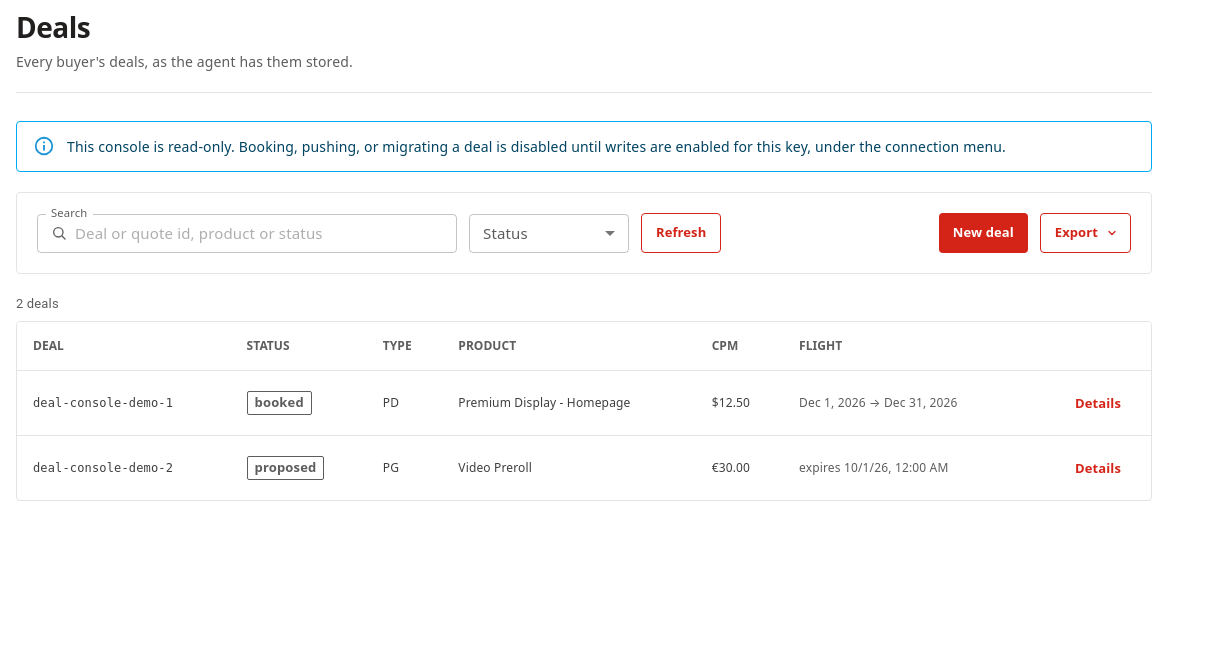
the deals screen › says so when the export fails, instead of downloading an empty file
Click the button "Export" at (1085,233), box [1040, 213, 1131, 253]
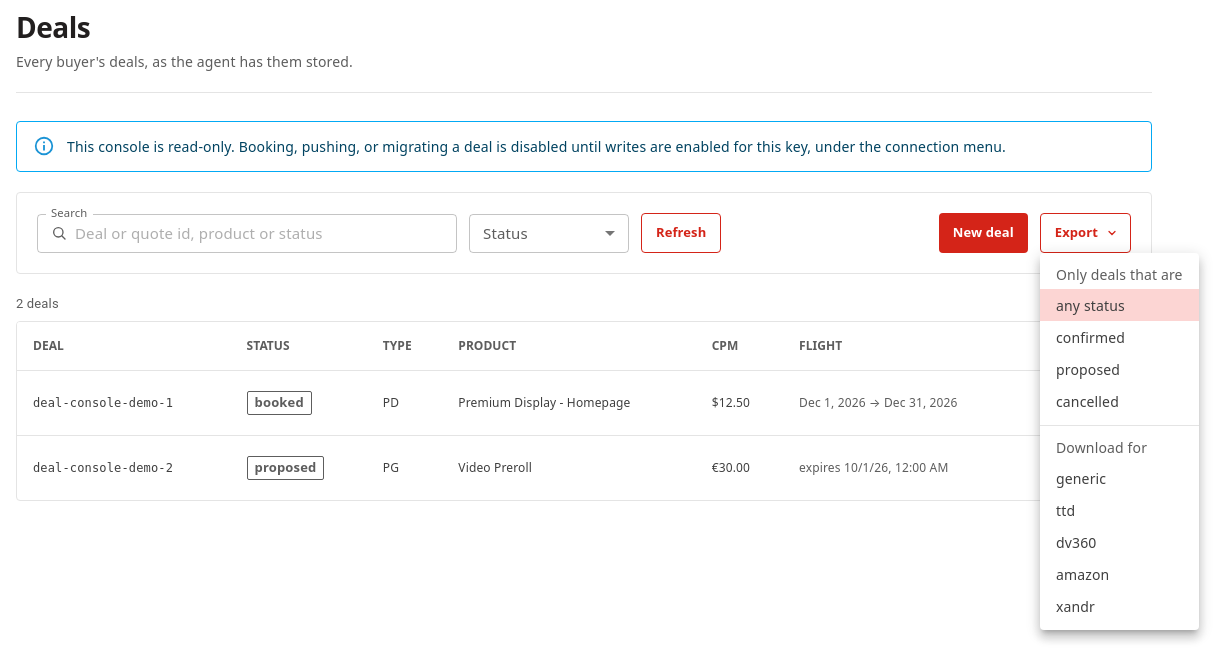
Click the menu item "generic" at (1081,478), box [1056, 468, 1106, 488]
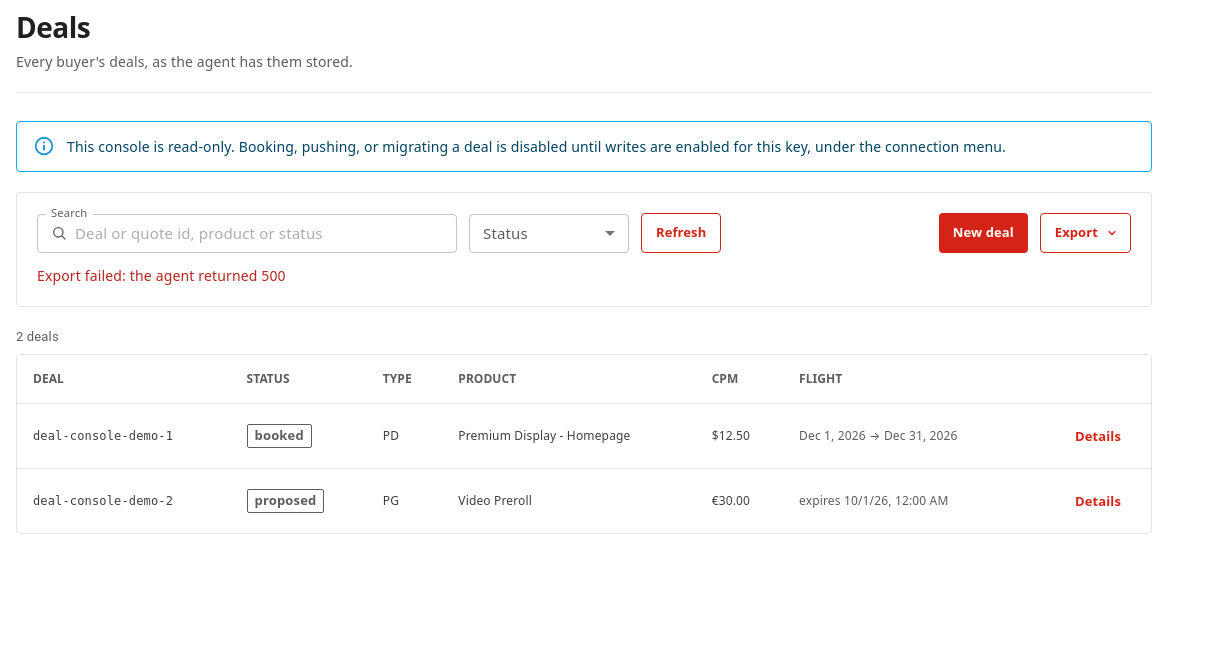
Now the text "Export failed: the agent returned 500" is shown, box [37, 266, 286, 285]
